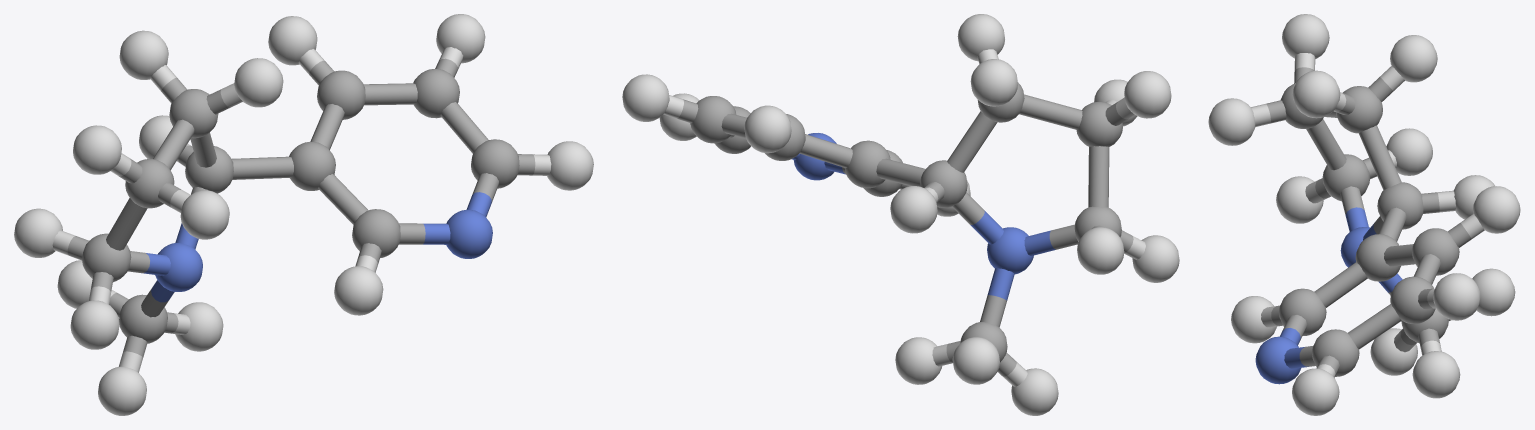
File: nicotine-bas.glb
The picture shows the model from 3 angles, left to right: view 1: azimuth 30°, elevation 25°; view 2: azimuth 150°, elevation 25°; view 3: azimuth 270°, elevation 25°; orthographic projection. The views are drawn at different scales.
Parts seen in each view (by area): view 1: nicotine-bas; view 2: nicotine-bas; view 3: nicotine-bas.
Part boxes in pixels (<box>): nicotine-bas: <box>14,14,593,415</box>; nicotine-bas: <box>622,14,1179,415</box>; nicotine-bas: <box>1208,14,1520,415</box>.
Size of the model in its own units: 8.56 by 5.69 by 4.58.
